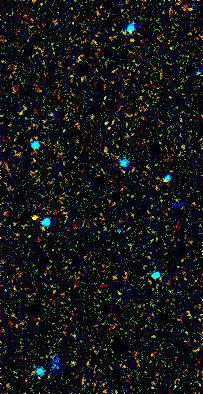star: (18, 204, 48, 234)
